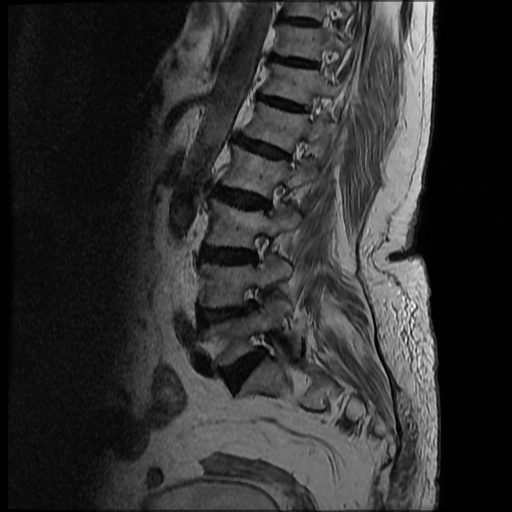LFS0: (247, 177, 300, 221), (234, 229, 285, 273)
LFS1: (236, 322, 286, 370)
LFS2: (231, 278, 280, 320)
